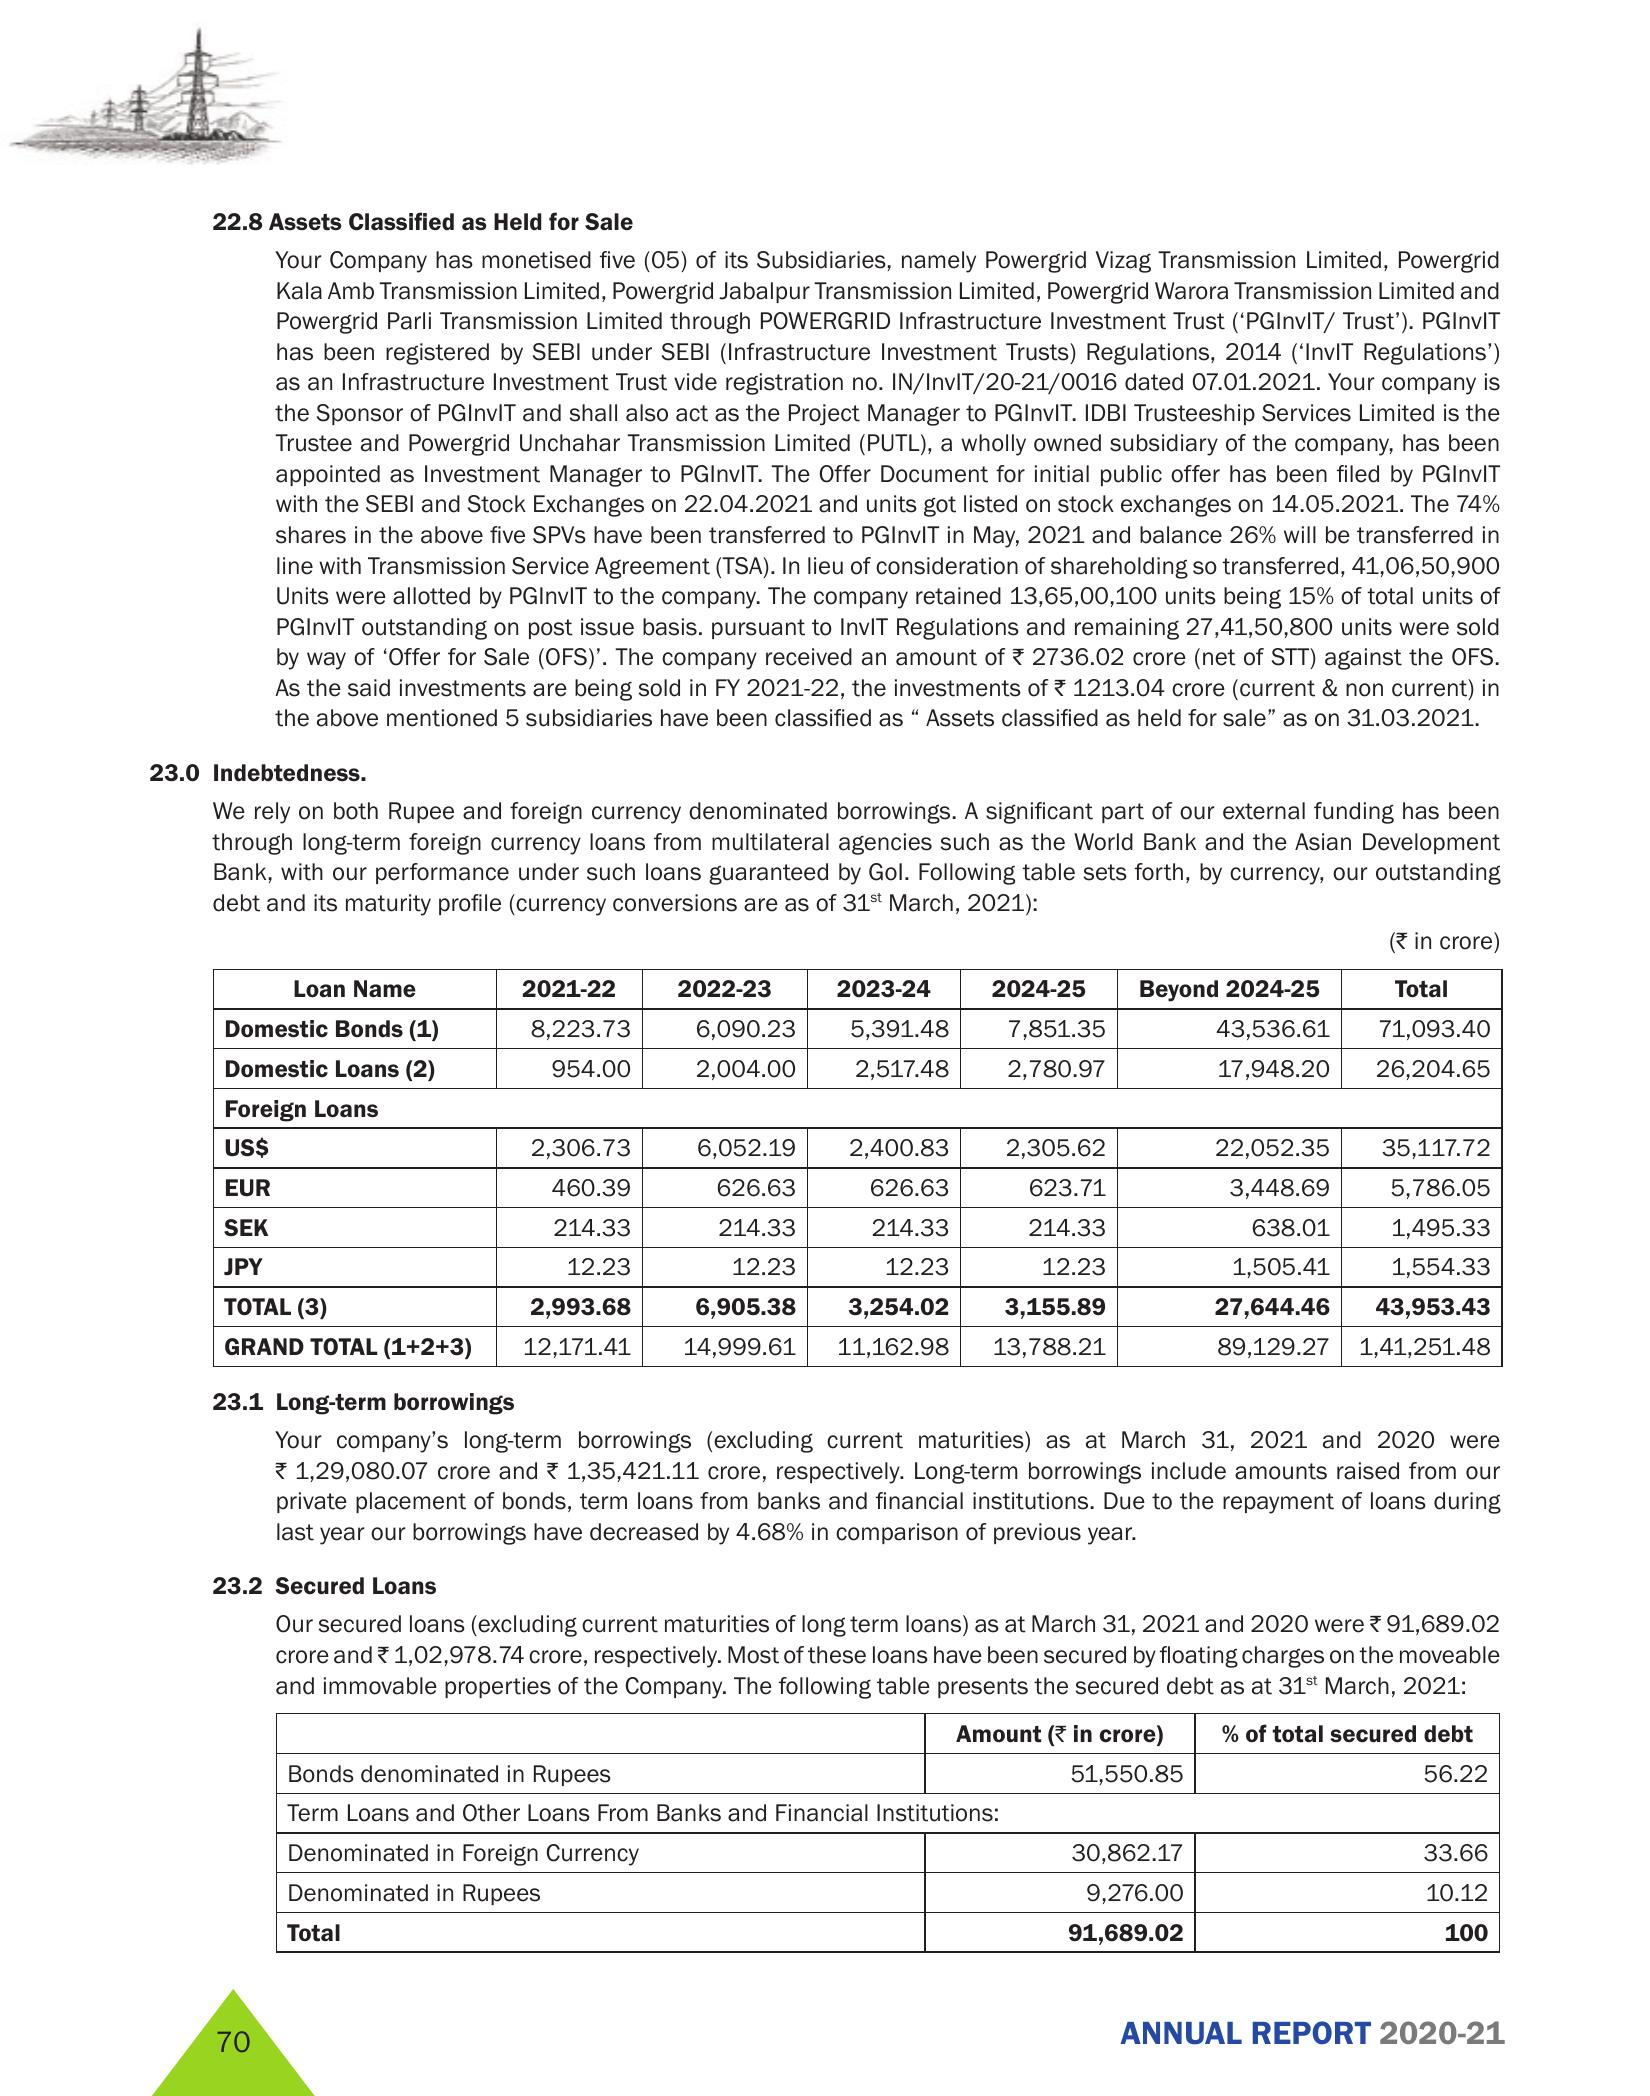Footer: (0, 1982, 1650, 2096)
Header: (0, 0, 1650, 180)
Table: (175, 956, 1545, 1376), (248, 1693, 1521, 1968)
